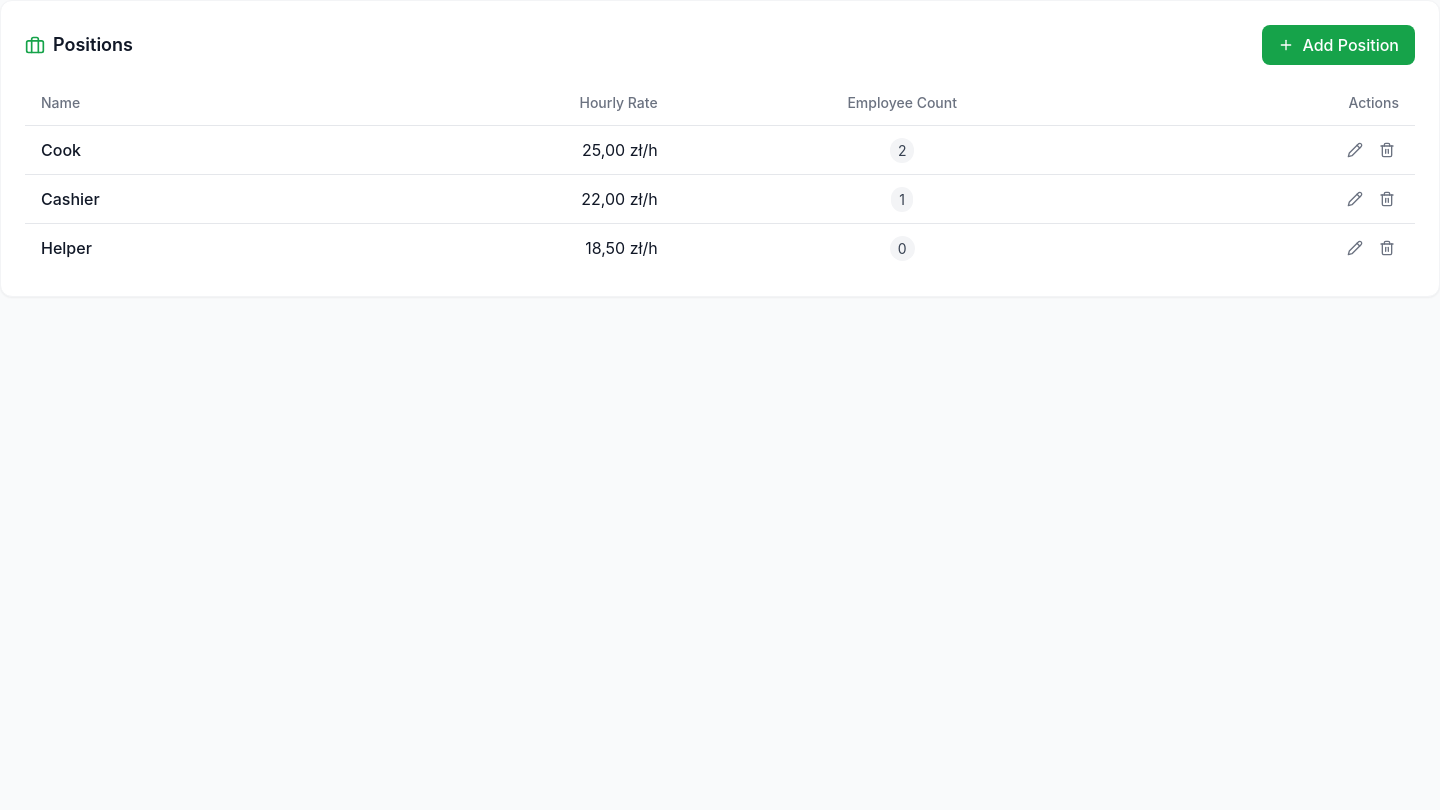
PositionsSection › Create Position › opens add position modal when clicking add button
The image size is (1440, 810).
Expected: the text "Cook" is shown, [25,126,318,174]
Click the button "Add Position".
click(1339, 45)  # box [1262,25,1415,65]
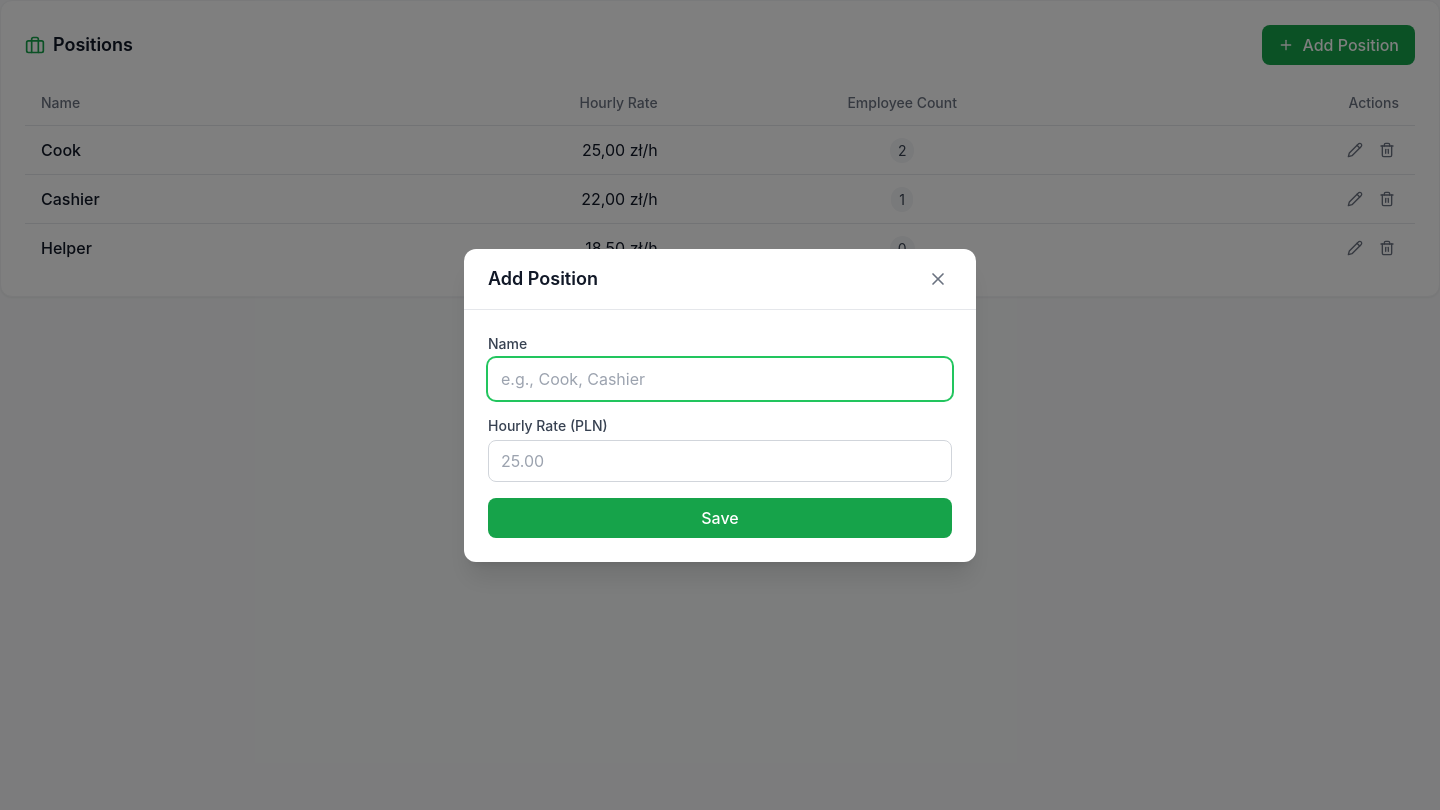
Result: the dialog is shown
Result: the heading "Add Position" is shown at [488,264,598,292]
